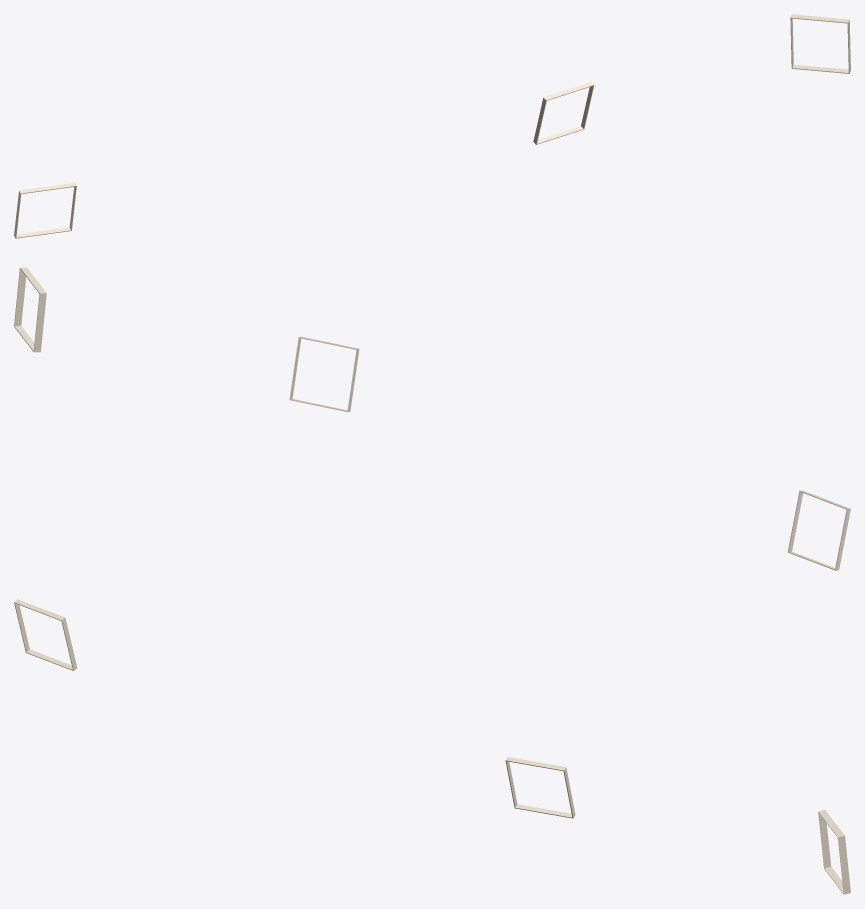
Rendered from tile_489.glb.
3 renders of one model, top to bottom at view 1: azimuth 30°, elevation 25°; view 2: azimuth 150°, elevation 25°; view 3: azimuth 330°, elevation 25°, orthographic. The views are drawn at different scales.
Bounding box in the file's own units: 21.82 × 1.44 × 2.23.
